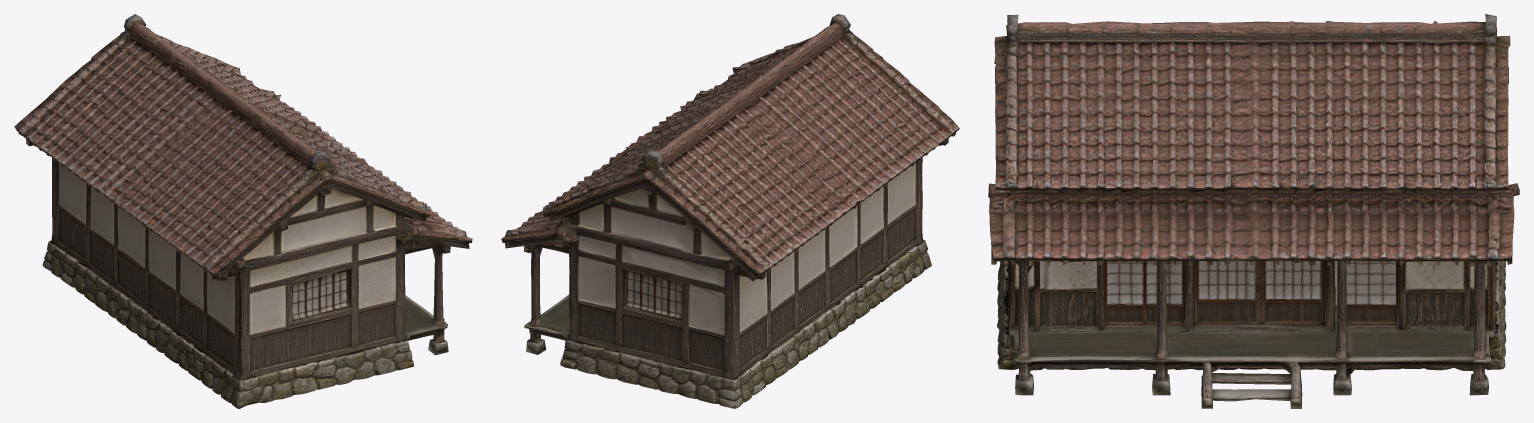
Rendered from clinic.glb.
The picture shows the model from 3 angles, left to right: view 1: azimuth 30°, elevation 25°; view 2: azimuth 150°, elevation 25°; view 3: azimuth 270°, elevation 25°; orthographic projection. The views are drawn at different scales.
Parts seen in each view (by area): view 1: tripo_node_4f0939cf-13f4-42fa-b833-813e9992e031; view 2: tripo_node_4f0939cf-13f4-42fa-b833-813e9992e031; view 3: tripo_node_4f0939cf-13f4-42fa-b833-813e9992e031.
Part boxes in pixels (left/top/right/bottom): tripo_node_4f0939cf-13f4-42fa-b833-813e9992e031: left=14, top=14, right=472, bottom=408; tripo_node_4f0939cf-13f4-42fa-b833-813e9992e031: left=501, top=14, right=959, bottom=408; tripo_node_4f0939cf-13f4-42fa-b833-813e9992e031: left=988, top=14, right=1519, bottom=408.
Bounding box in the file's own units: 8.22 × 6.83 × 11.
Materials: 1 (1 with a texture image).
